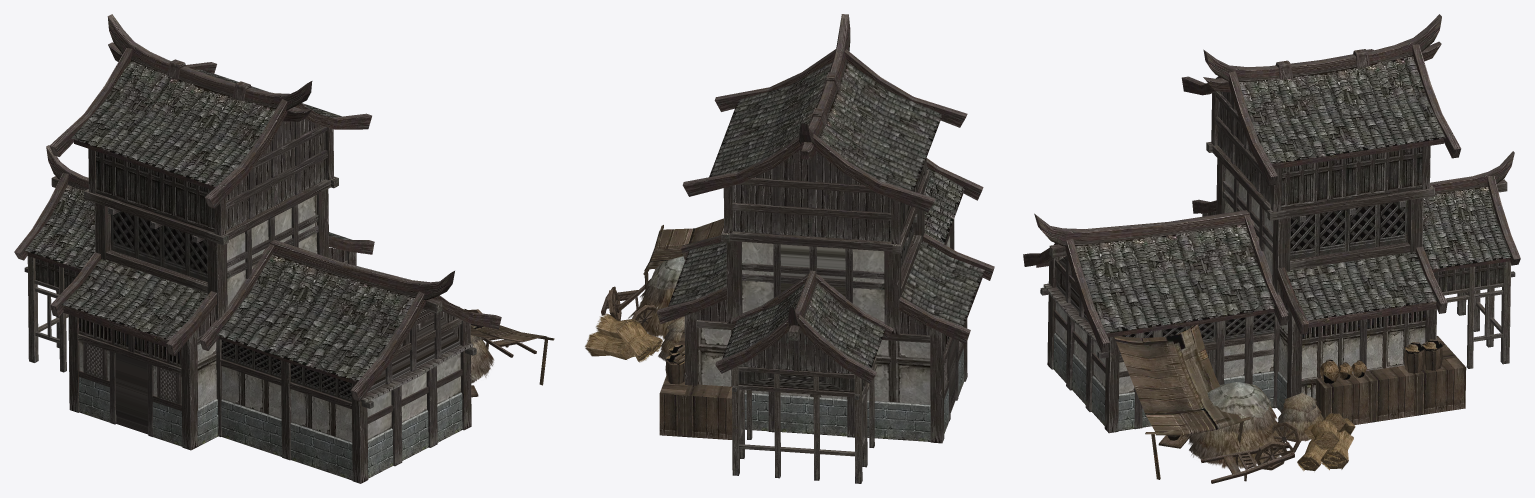
File: chinese_house.glb
The picture shows the model from 3 angles, left to right: view 1: azimuth 30°, elevation 25°; view 2: azimuth 150°, elevation 25°; view 3: azimuth 270°, elevation 25°; orthographic projection. The views are drawn at different scales.
Parts seen in each view (by area): view 1: Object_6, Object_3, Object_5, Object_4, Object_2; view 2: Object_6, Object_3, Object_5, Object_2, Object_4, Object_8; view 3: Object_6, Object_5, Object_3, Object_2, Object_4, Object_8.
Boxes of the visible parts, left/top/right/bottom form: Object_6: left=14, top=14, right=501, bottom=401; Object_3: left=24, top=121, right=476, bottom=483; Object_5: left=35, top=119, right=472, bottom=441; Object_4: left=458, top=306, right=536, bottom=397; Object_2: left=464, top=309, right=554, bottom=385; Object_6: left=656, top=14, right=994, bottom=383; Object_3: left=684, top=155, right=967, bottom=483; Object_5: left=697, top=148, right=950, bottom=404; Object_2: left=643, top=218, right=732, bottom=439; Object_4: left=601, top=256, right=685, bottom=361; Object_8: left=585, top=313, right=663, bottom=362; Object_6: left=1023, top=14, right=1520, bottom=352; Object_5: left=1043, top=91, right=1503, bottom=398; Object_3: left=1040, top=91, right=1515, bottom=433; Object_2: left=1114, top=324, right=1466, bottom=479; Object_4: left=1158, top=382, right=1323, bottom=483; Object_8: left=1297, top=413, right=1355, bottom=471.
Size of the model in its own units: 1422 by 1099 by 1482.
Materials: 7 (7 with a texture image).
